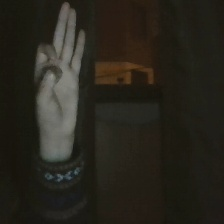F: (30, 1, 89, 142)
